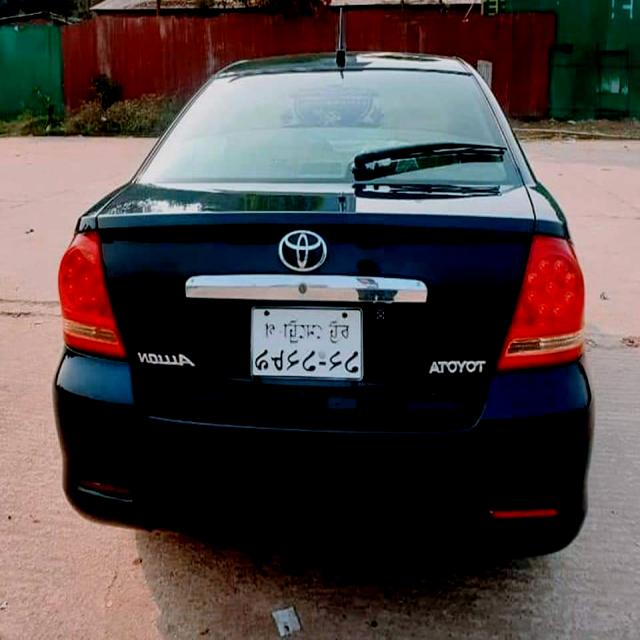black: (61, 48, 583, 556)
